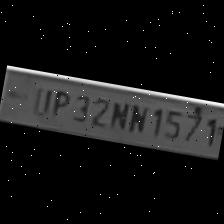1: (198, 111, 221, 147), (145, 102, 166, 137)
2: (88, 92, 111, 126)
3: (65, 88, 92, 122)
5: (159, 104, 183, 140)
7: (178, 107, 202, 144)
N: (123, 97, 149, 132), (105, 96, 129, 130)
P: (45, 84, 71, 119)
U: (26, 80, 50, 116)
